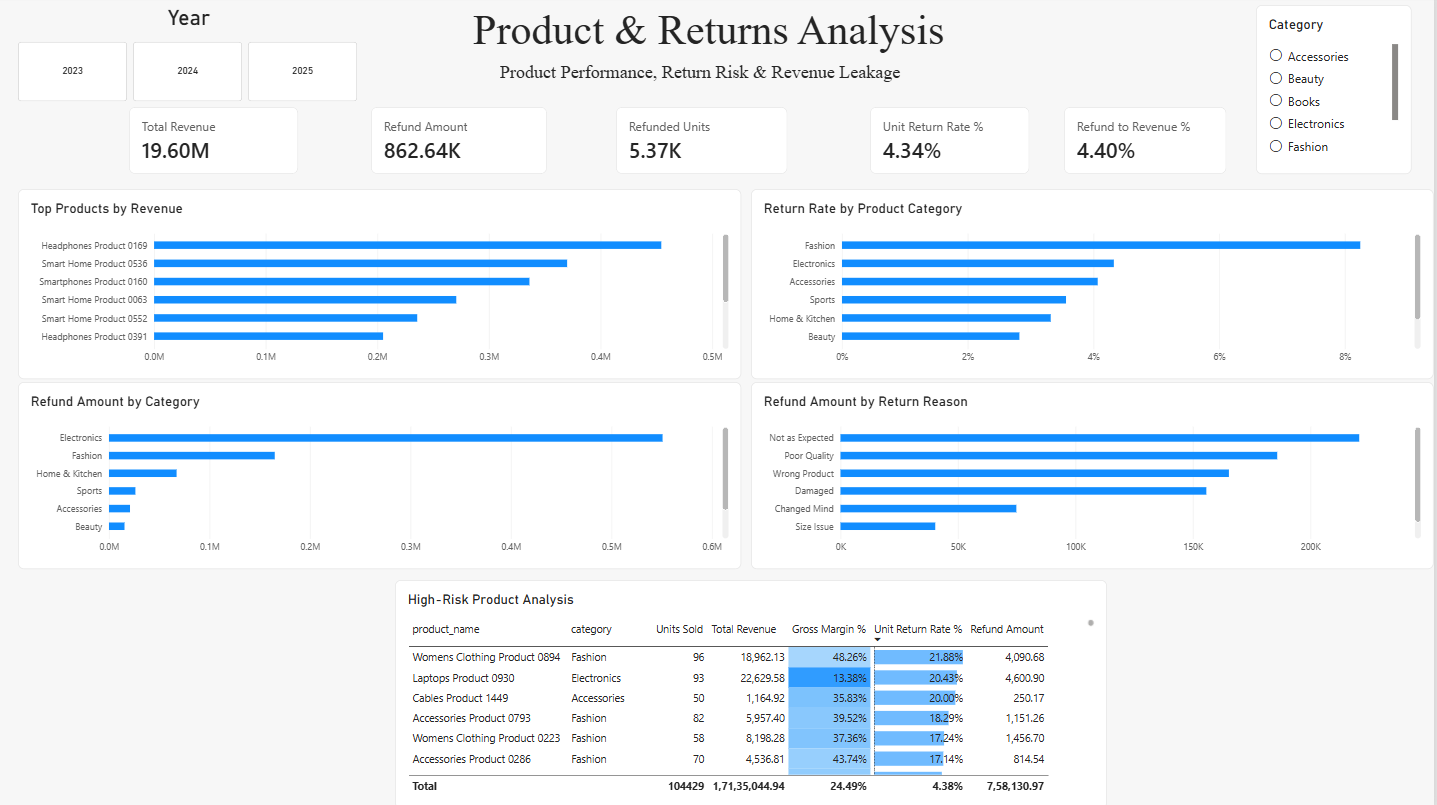

This screenshot's page, from the dashboard's own definition file:
{"tool":"powerbi","page":{"name":"Product & Returns Analysis","canvas":[1920,1080],"ordinal":3},"visuals":[{"type":"textbox","box":[641.9,13.1,636.1,86.1],"z":0},{"type":"textbox","box":[678.4,87.5,563.2,52.5],"z":1000},{"type":"cardVisual","fields":{"Data":["_Measures.Total Revenue"]},"box":[184.6,147.1,225.6,89.6],"z":2000},{"type":"cardVisual","fields":{"Data":["_Measures.Refund Amount"]},"box":[507,147.1,234.6,89.6],"z":3000},{"type":"cardVisual","fields":{"Data":["_Measures.Refunded Units"]},"box":[832.5,147.1,228.6,89.6],"z":4000},{"type":"cardVisual","fields":{"Data":["_Measures.Refund to Revenue %"]},"box":[1428.7,147.1,216.7,89.6],"z":5000},{"type":"cardVisual","fields":{"Data":["_Measures.Unit Return Rate %"]},"box":[1170.5,147.1,212.2,89.6],"z":6000},{"type":"clusteredBarChart","title":"Top Products by Revenue","fields":{"Category":["products.product_name"],"Y":["_Measures.Total Revenue"]},"box":[37.6,256.6,962.3,253.5],"z":7000},{"type":"clusteredBarChart","title":"Return Rate by Product Category","fields":{"Category":["products.category"],"Y":["_Measures.Unit Return Rate %"]},"box":[1012.4,256.6,907.6,253.5],"z":8000},{"type":"barChart","title":"Refund Amount by Category","fields":{"Category":["products.category"],"Y":["_Measures.Refund Amount"]},"box":[37.6,513.3,962,249],"z":9000},{"type":"barChart","title":"Refund Amount by Return Reason","fields":{"Category":["returns.return_reason"],"Y":["_Measures.Refund Amount"]},"box":[1012.4,513.3,908,249],"z":10000},{"type":"tableEx","title":"High-Risk Product Analysis","fields":{"Values":["products.product_name","products.category","_Measures.Units Sold","_Measures.Total Revenue","_Measures.Gross Margin %","_Measures.Unit Return Rate %","_Measures.Refund Amount"]},"box":[538.3,776.1,946.7,303.6],"z":11000},{"type":"advancedSlicerVisual","fields":{"Values":["DateTable.Year"]},"box":[37.6,12.5,453.8,128.3],"z":12000},{"type":"listSlicer","title":"Category","fields":{"Values":["products.category"]},"box":[1683.7,12.5,206.6,225.3],"z":13000}]}

Visuals, with their boxes in screenshot pixels (x1, y1, x2, y2), scaled from the page's 1920x1080 canvas onto the 1437x805 screenshot:
textbox: {"x1": 480, "y1": 10, "x2": 957, "y2": 74}
textbox: {"x1": 508, "y1": 65, "x2": 929, "y2": 104}
cardVisual - _Measures.Total Revenue: {"x1": 138, "y1": 110, "x2": 307, "y2": 176}
cardVisual - _Measures.Refund Amount: {"x1": 379, "y1": 110, "x2": 555, "y2": 176}
cardVisual - _Measures.Refunded Units: {"x1": 623, "y1": 110, "x2": 794, "y2": 176}
cardVisual - _Measures.Refund to Revenue %: {"x1": 1069, "y1": 110, "x2": 1231, "y2": 176}
cardVisual - _Measures.Unit Return Rate %: {"x1": 876, "y1": 110, "x2": 1035, "y2": 176}
"Top Products by Revenue" clusteredBarChart: {"x1": 28, "y1": 191, "x2": 748, "y2": 380}
"Return Rate by Product Category" clusteredBarChart: {"x1": 758, "y1": 191, "x2": 1436, "y2": 380}
"Refund Amount by Category" barChart: {"x1": 28, "y1": 383, "x2": 748, "y2": 568}
"Refund Amount by Return Reason" barChart: {"x1": 758, "y1": 383, "x2": 1436, "y2": 568}
"High-Risk Product Analysis" tableEx: {"x1": 403, "y1": 578, "x2": 1111, "y2": 804}
advancedSlicerVisual - DateTable.Year: {"x1": 28, "y1": 9, "x2": 368, "y2": 105}
"Category" listSlicer: {"x1": 1260, "y1": 9, "x2": 1415, "y2": 177}
